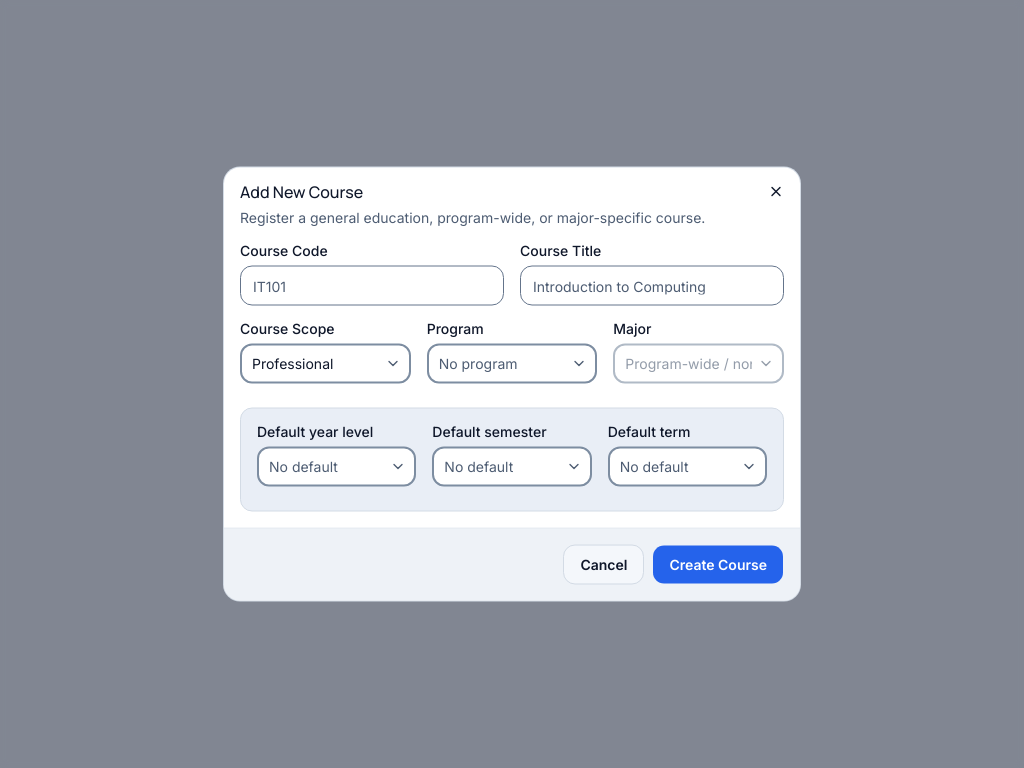
Test: CourseCreateDialog › flattens nested majors with their parent program for the Major select
Click the dropdown labelled "program" at x=512, y=364, box [427,344,597,384]
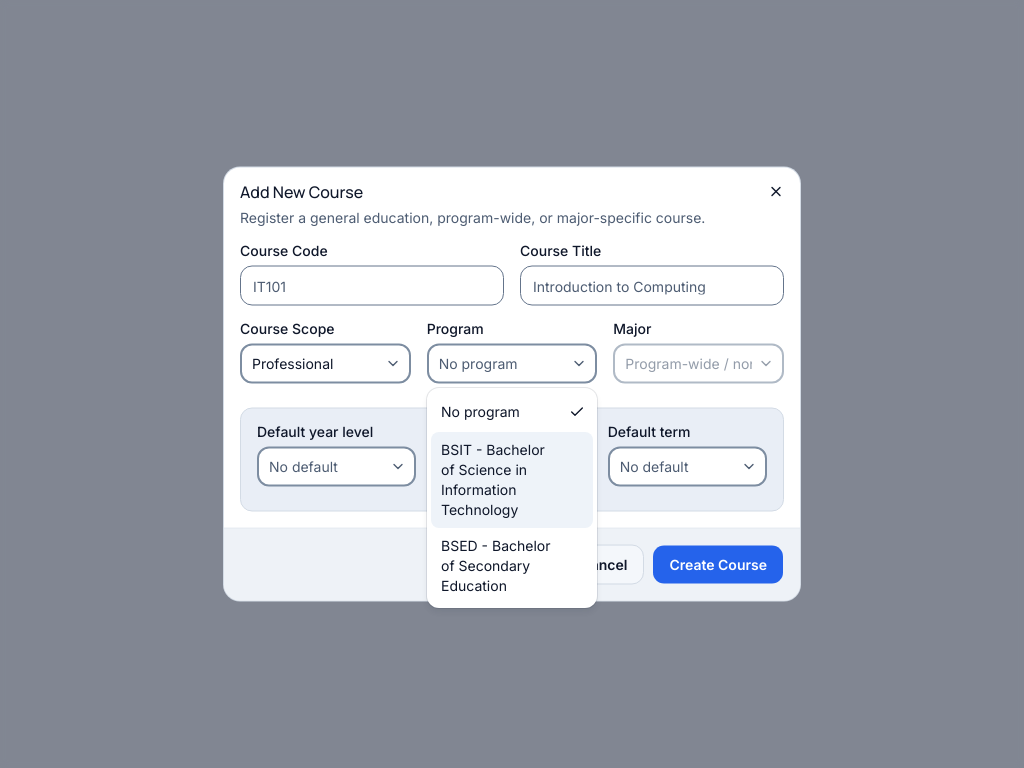
Press Enter in the option "BSIT - Bachelor of Science in Information Technology", box [431,432,593,528]
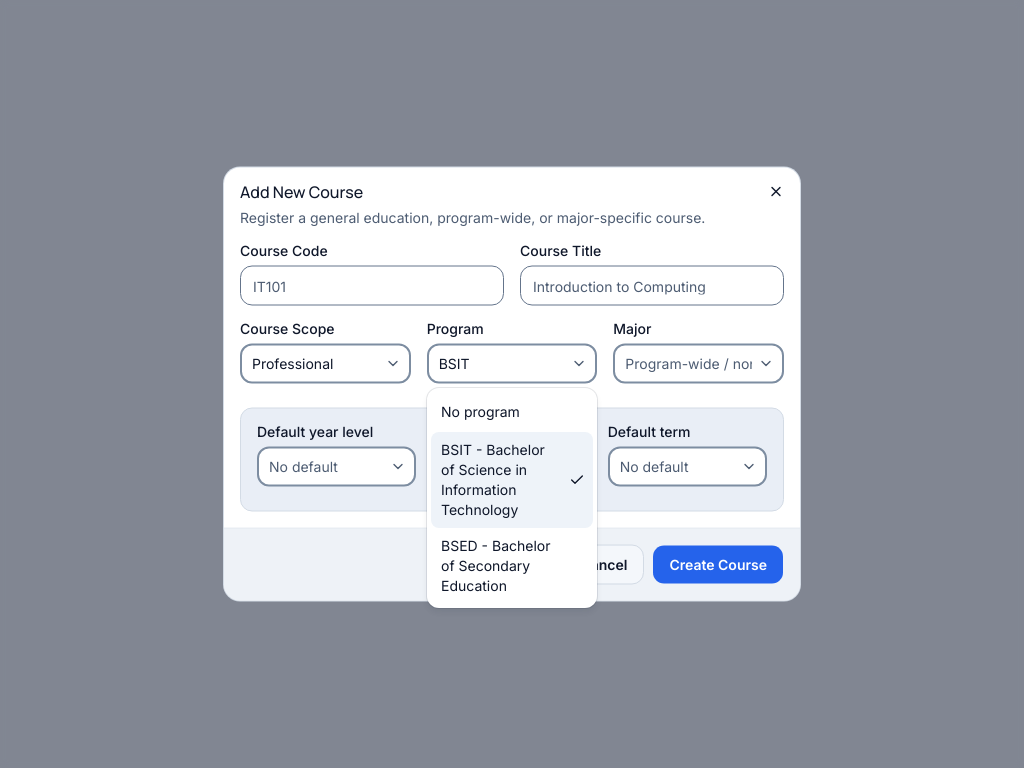
Click the dropdown named "Major" at x=699, y=364, box [613,344,784,384]
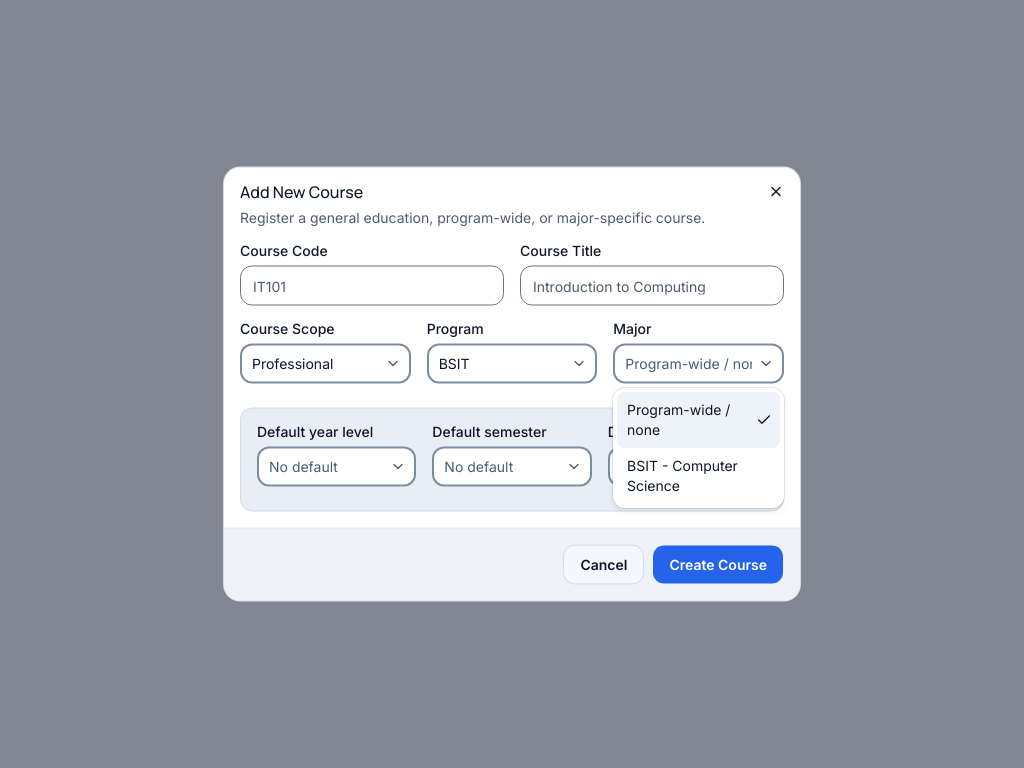
expect the option "BSIT - Computer Science" is shown: met, box [627,457,738,494]
